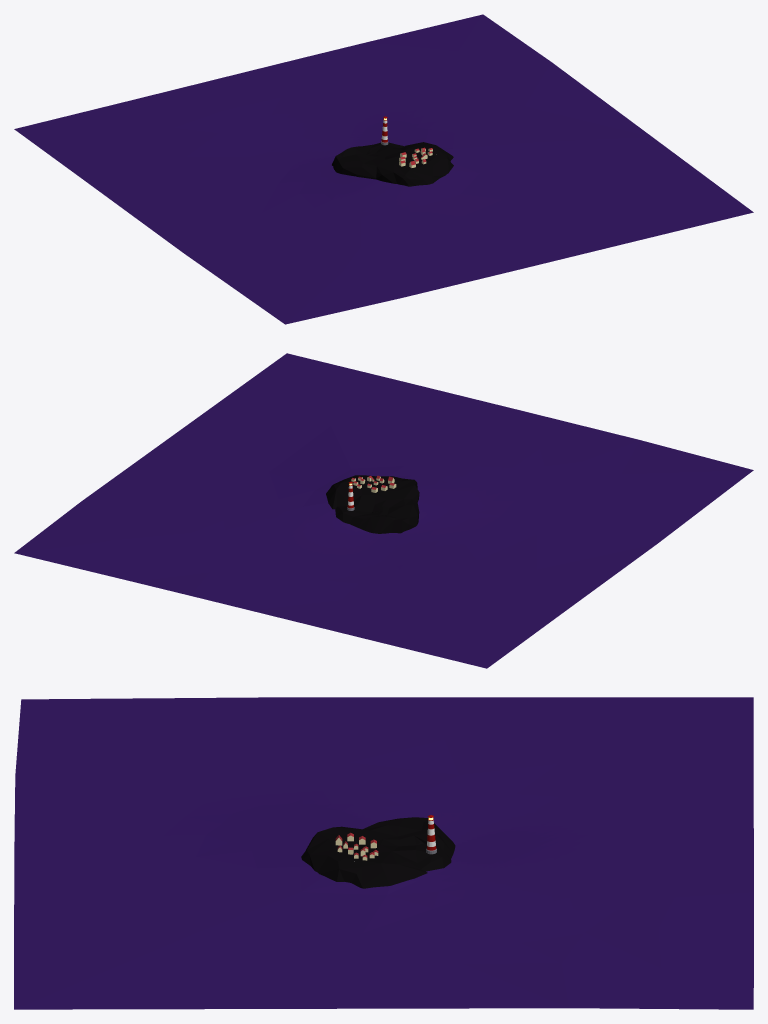
File: Lighthouse.glb
3 renders of one model, top to bottom at view 1: azimuth 30°, elevation 25°; view 2: azimuth 150°, elevation 25°; view 3: azimuth 270°, elevation 25°, orthographic. The views are drawn at different scales.
Visible parts, largest first — view 1: water, rock; view 2: water, rock; view 3: water, rock.
Part boxes in pixels (left/top/right/bottom): water: left=14, top=14, right=753, bottom=324; rock: left=332, top=142, right=453, bottom=186; water: left=14, top=353, right=753, bottom=668; rock: left=326, top=475, right=419, bottom=533; water: left=14, top=697, right=753, bottom=1009; rock: left=301, top=817, right=455, bottom=888.
Size of the model in its own units: 152 by 20.77 by 152.
